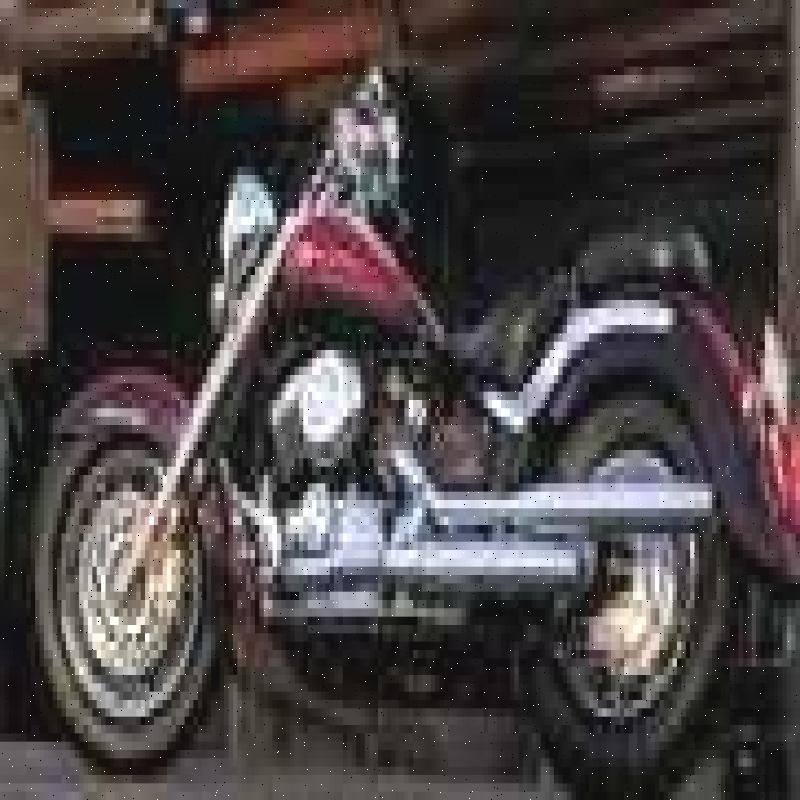bike: (29, 10, 786, 790)
